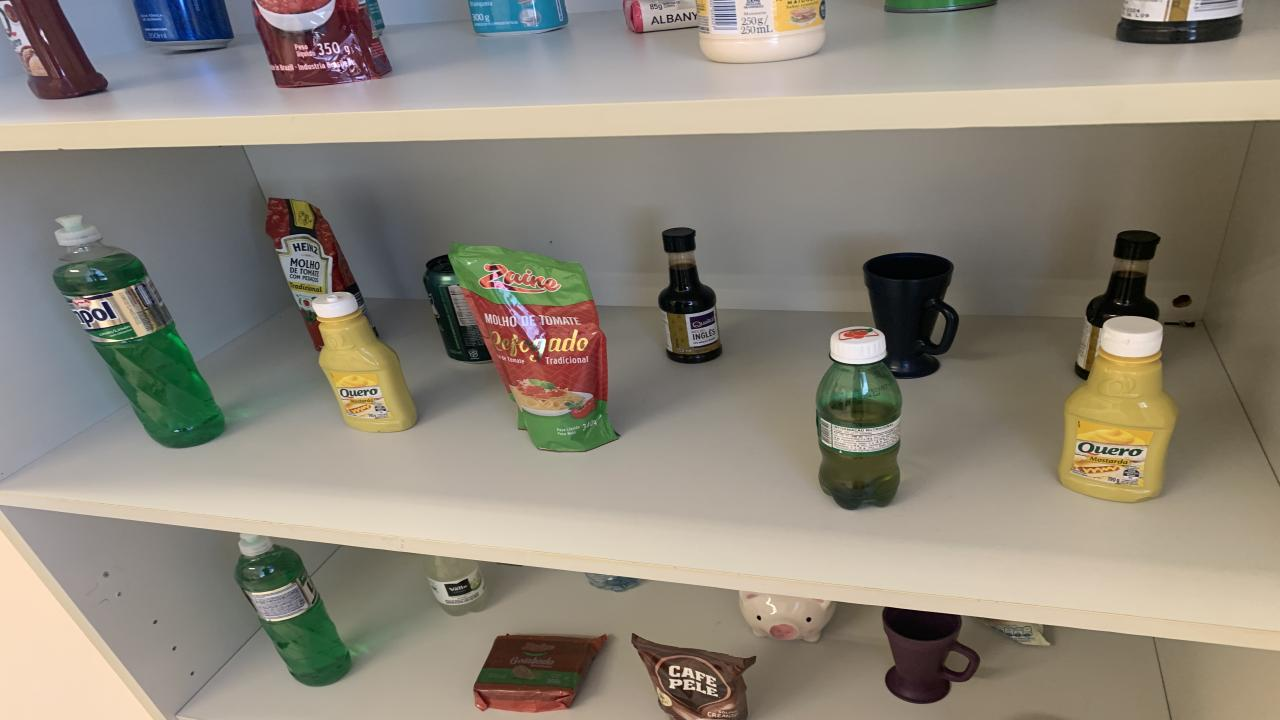Cleaner-Cleanup_Items: (470, 0, 568, 36)
Coffee-Pantry_Items: (632, 634, 755, 720)
Detergent-Cleanup_Items: (52, 216, 225, 448), (235, 534, 352, 686)
English_Sauce-Pantry_Items: (1075, 231, 1160, 379), (658, 227, 722, 364), (1115, 0, 1245, 43)
Flakes-Snacks: (978, 617, 1050, 645)
Guarana-Drinks: (815, 326, 902, 510)
Guarana_Can-Drinks: (422, 255, 490, 362)
Guava-Snacks: (472, 634, 608, 712)
Mayonnaise-Pantry_Items: (698, 0, 825, 64)
Mustard-Pantry_Items: (1058, 317, 1178, 502), (312, 292, 418, 431)
Pig_Safe-Miscellaneous: (740, 591, 835, 643)
Soap-Cleanup_Items: (622, 0, 698, 34)
Soda-Drinks: (422, 555, 488, 617)
Tomato_Sauce-Pantry_Items: (450, 244, 618, 450), (265, 199, 368, 351), (252, 0, 390, 88)
Tonic-Drinks: (132, 0, 232, 51)
